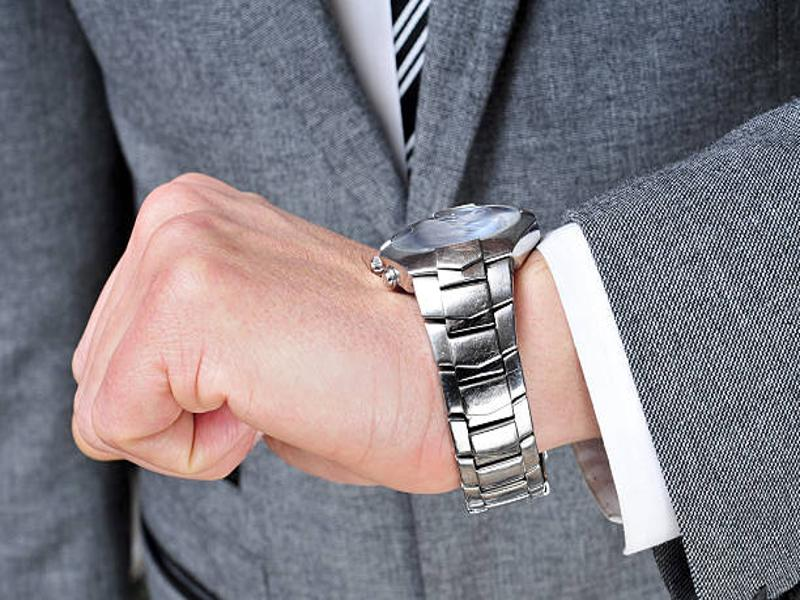watch: (369, 200, 551, 517)
